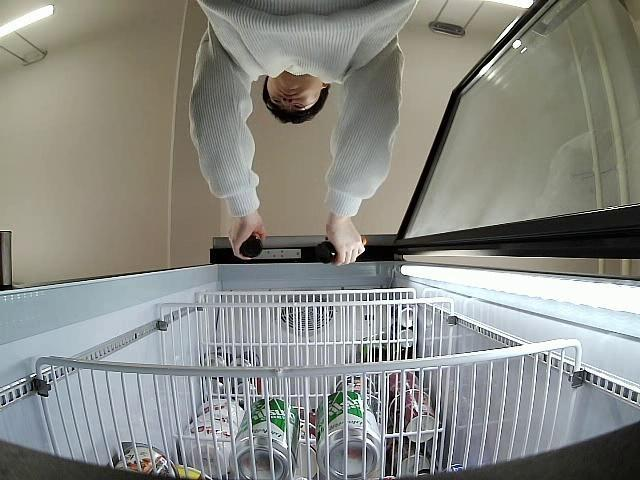17_vita500: (314, 235, 370, 266), (238, 232, 265, 260)
